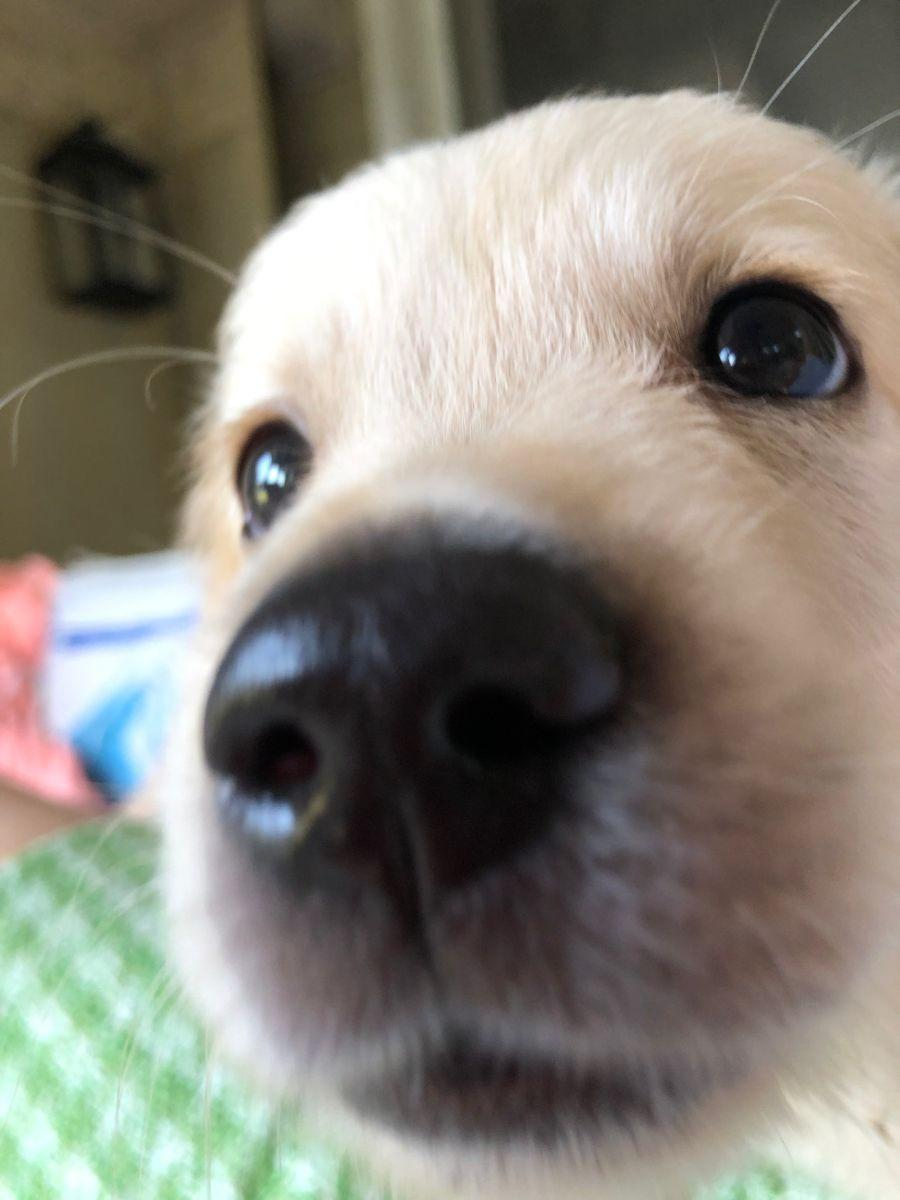puppy-dog: (148, 74, 900, 1200)
